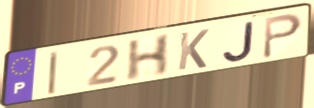2: (86, 44, 122, 88)
H: (124, 32, 173, 84)
I: (46, 49, 60, 98)
J: (220, 19, 257, 64)
K: (176, 27, 211, 72)
P: (261, 12, 305, 61)
